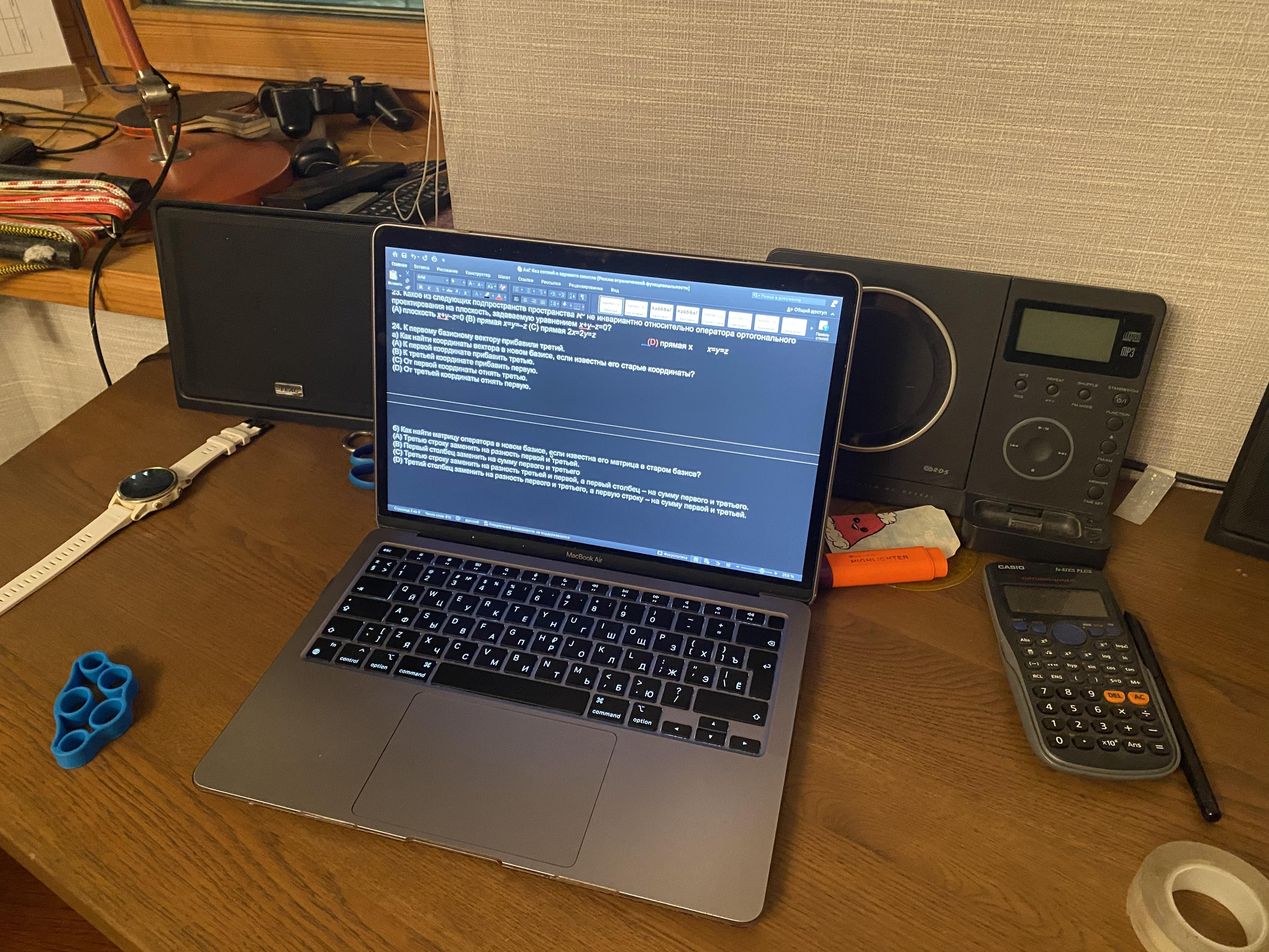monitor: (368, 227, 866, 608)
